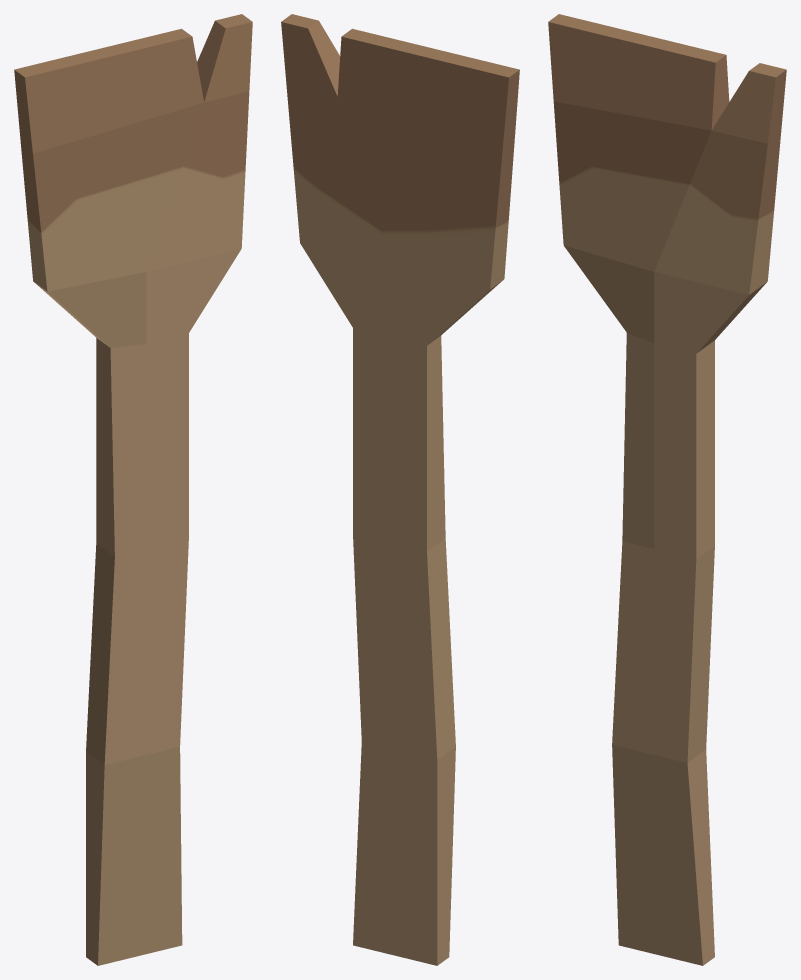
The model's file is SM_Spatula.gltf.
3 views of the same model, side by side, from view 1: azimuth 30°, elevation 25°; view 2: azimuth 150°, elevation 25°; view 3: azimuth 330°, elevation 25° (orthographic).
Parts seen in each view (by area): view 1: SM_Spatula; view 2: SM_Spatula; view 3: SM_Spatula.
Part boxes in pixels (x1,y1,x2,y2): SM_Spatula: (14, 14, 252, 965); SM_Spatula: (281, 14, 519, 965); SM_Spatula: (548, 14, 786, 965).
Size of the model in its own units: 0.1291 by 0.4901 by 0.0183.
Materials: 1 (1 with a texture image).
